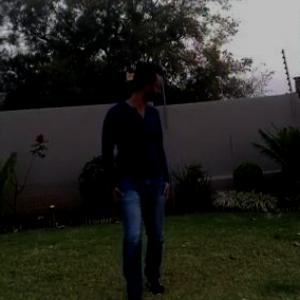follow: (95, 46, 183, 288)
